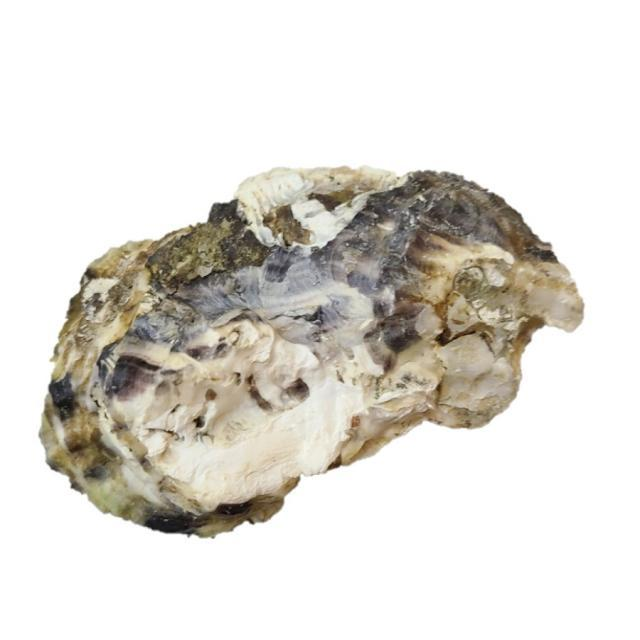Oyster- Indeterminate: (30, 155, 598, 546)
